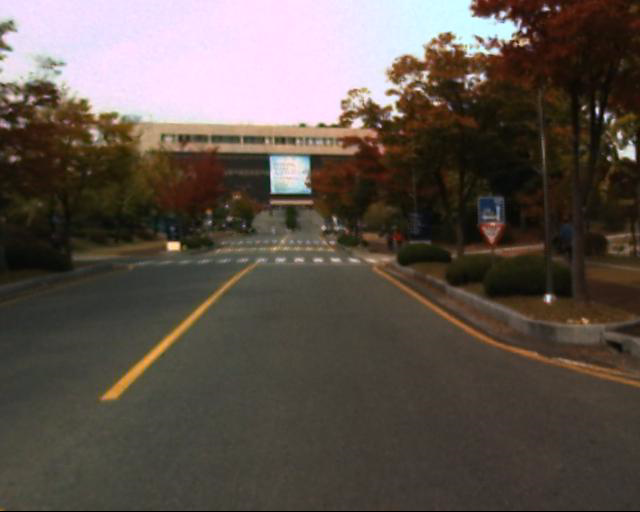person: (557, 222, 578, 278)
